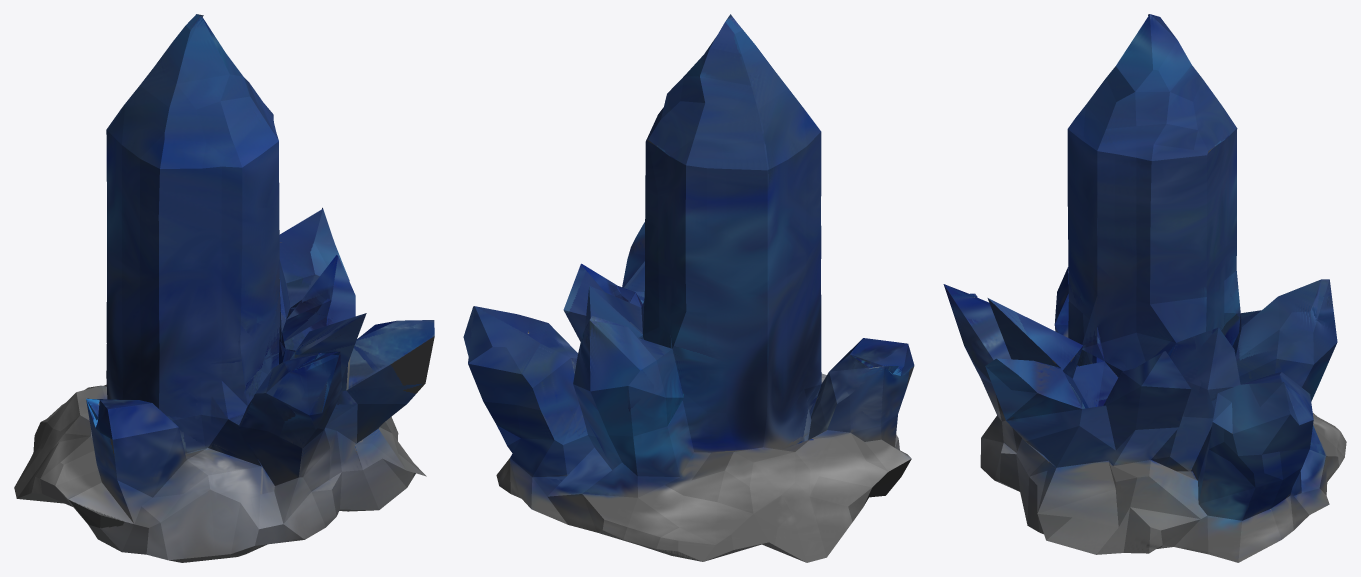
Rendered from crystalEdited (1).glb.
The picture shows the model from 3 angles, left to right: view 1: azimuth 30°, elevation 25°; view 2: azimuth 150°, elevation 25°; view 3: azimuth 270°, elevation 25°; orthographic projection. The views are drawn at different scales.
Parts seen in each view (by area): view 1: geometry_0; view 2: geometry_0; view 3: geometry_0.
Boxes of the visible parts, x1,y1,x2,y2 form: geometry_0: (14,14,434,562); geometry_0: (463,14,914,562); geometry_0: (943,14,1346,562).
Bounding box in the file's own units: 0.7679 × 1.02 × 0.7851.
Materials: 1 (1 with a texture image).
